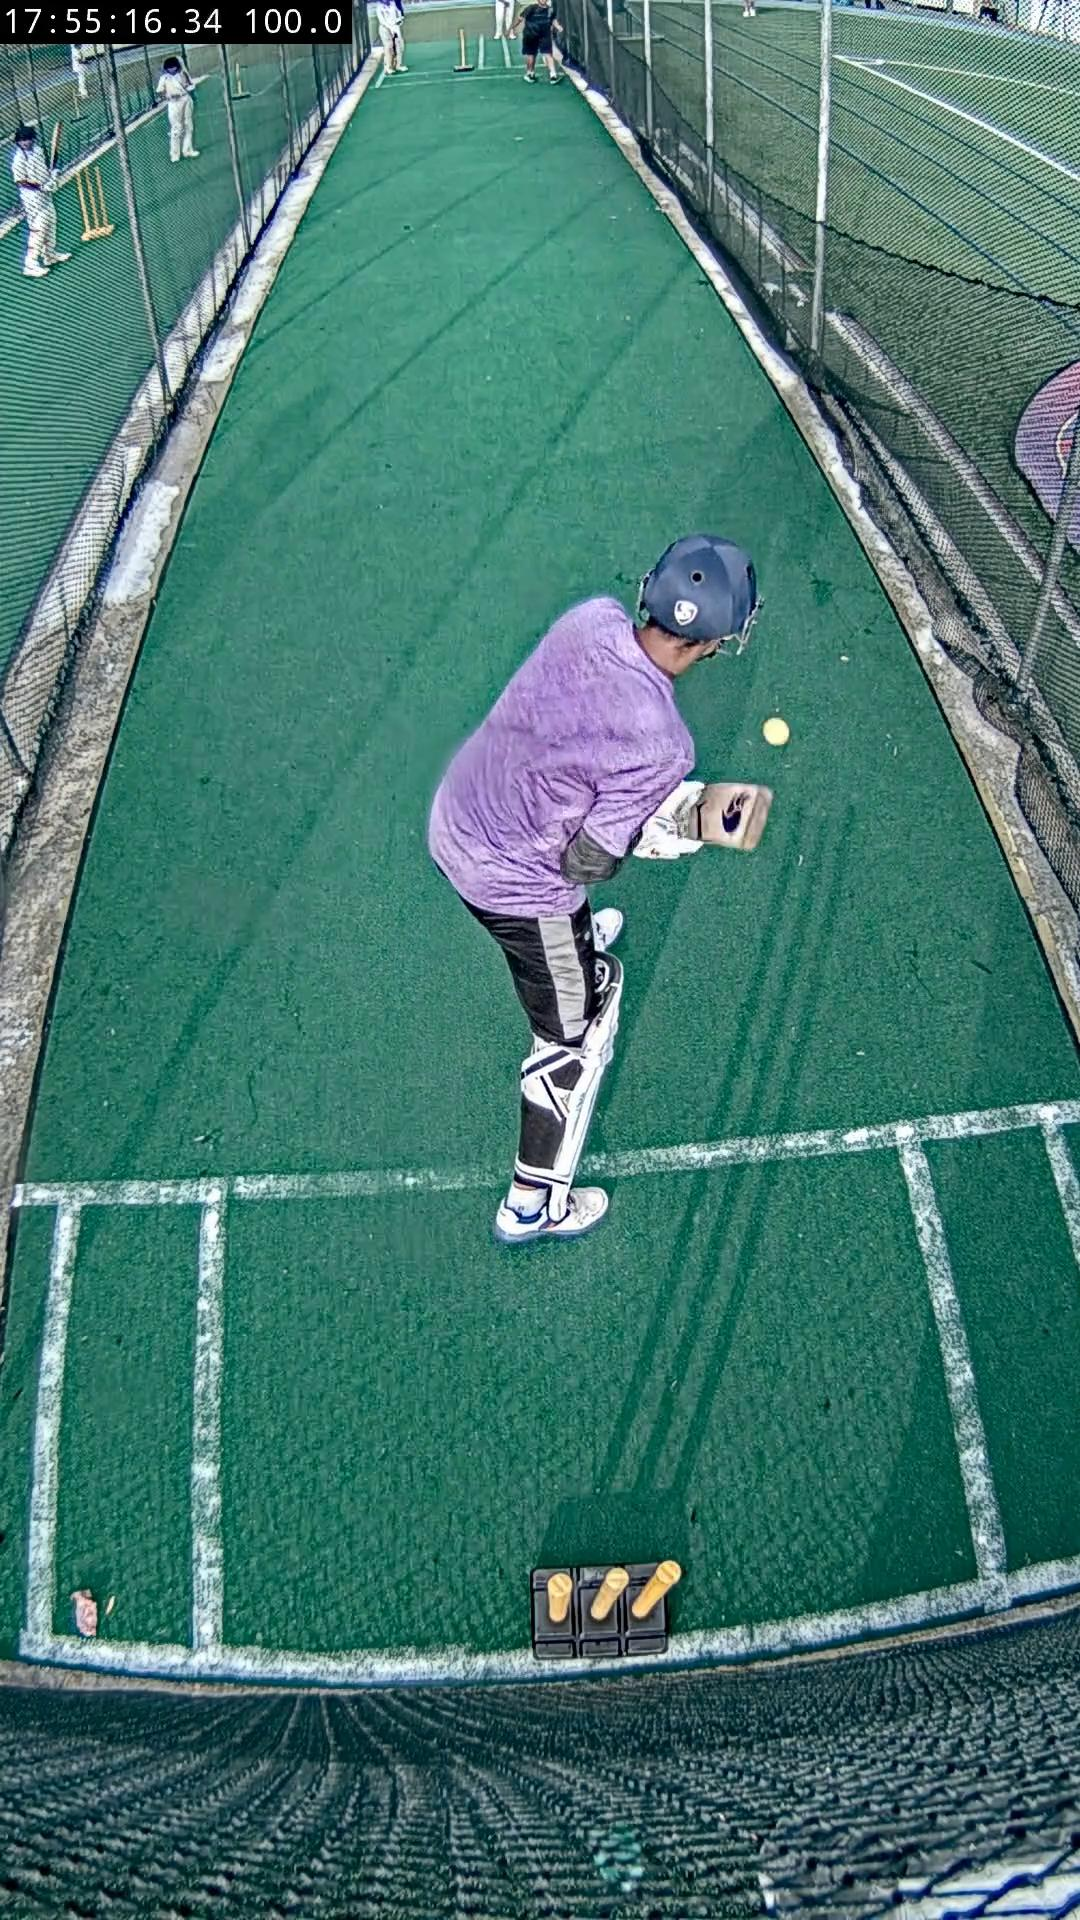ball: (761, 716, 791, 746)
bat: (698, 783, 773, 852)
gloves: (630, 781, 705, 858)
helmet: (637, 533, 761, 654)
pads: (566, 956, 622, 1168)
stumps: (533, 1560, 683, 1662)
